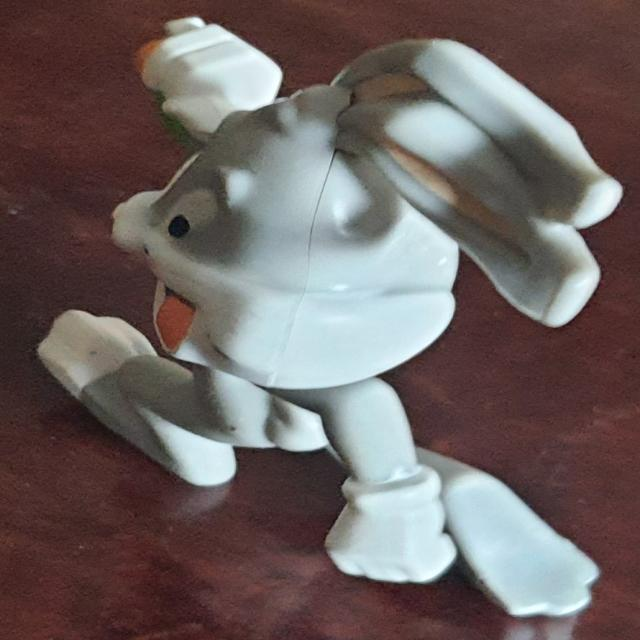Rabbit: (36, 23, 625, 620)
